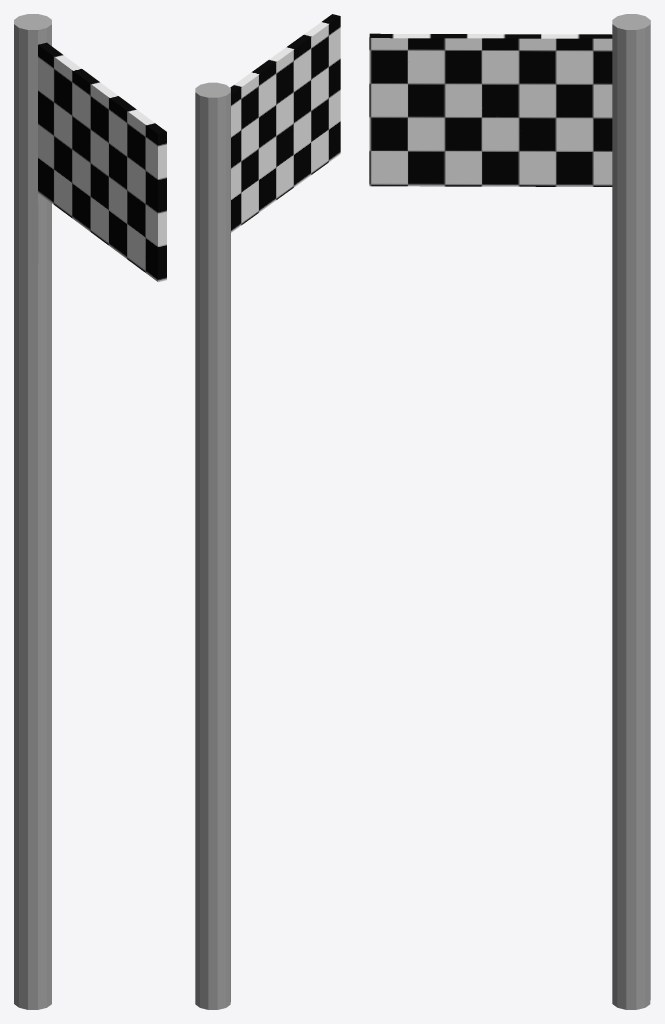
The model's file is flag.fbx.
3 renders of one model, left to right at view 1: azimuth 30°, elevation 25°; view 2: azimuth 150°, elevation 25°; view 3: azimuth 270°, elevation 25°, orthographic. The views are drawn at different scales.
Visible parts, largest first — view 1: Flag; view 2: Flag; view 3: Flag.
Boxes of the visible parts, x1,y1,x2,y2 form: Flag: (14, 14, 166, 1009); Flag: (195, 14, 340, 1009); Flag: (369, 14, 650, 1009).
Size of the model in its own units: 57.67 by 1637 by 426.
